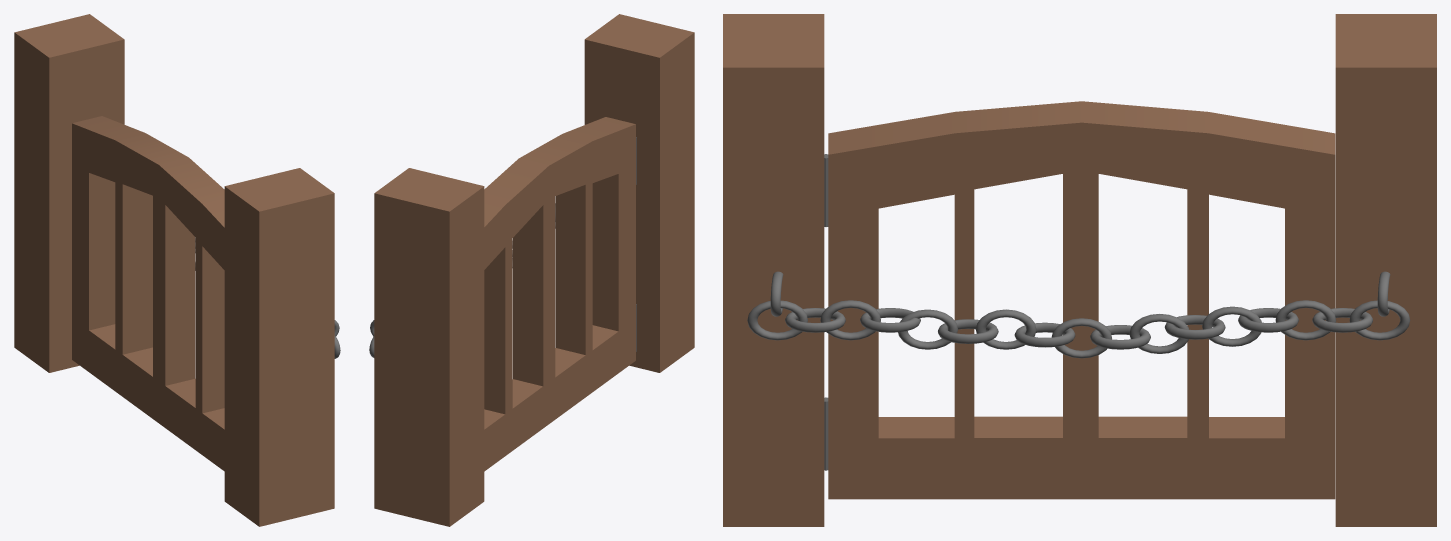
Rendered from Gate Kick.fbx.
3 views of the same model, side by side, from view 1: azimuth 30°, elevation 25°; view 2: azimuth 150°, elevation 25°; view 3: azimuth 270°, elevation 25° (orthographic). The views are drawn at different scales.
Parts seen in each view (by area): view 1: obj_gateDoor, obj_postL, obj_postR; view 2: obj_gateDoor, obj_postR, obj_postL; view 3: obj_gateDoor, obj_postR, obj_postL, obj_chainLink017, obj_chainLink016, obj_chainLink02, obj_chainLink012, obj_chainLink013, obj_chainLink08, obj_chainLink05, obj_chainLink04, obj_chainLink09 (+8 smaller).
Boxes of the visible parts, x1,y1,x2,y2 form: obj_gateDoor: (72, 116, 224, 471); obj_postL: (224, 168, 334, 526); obj_postR: (14, 14, 124, 372); obj_gateDoor: (484, 117, 635, 471); obj_postR: (374, 168, 484, 526); obj_postL: (584, 14, 694, 372); obj_gateDoor: (828, 101, 1335, 499); obj_postR: (1335, 14, 1436, 526); obj_postL: (723, 14, 824, 526); obj_chainLink017: (1349, 300, 1410, 340); obj_chainLink016: (747, 300, 807, 340); obj_chainLink02: (1051, 318, 1111, 358); obj_chainLink012: (1275, 300, 1336, 340); obj_chainLink013: (820, 300, 880, 340); obj_chainLink08: (1202, 306, 1261, 346); obj_chainLink05: (975, 309, 1036, 349); obj_chainLink04: (1129, 314, 1188, 353); obj_chainLink09: (898, 309, 957, 349).
Bounding box in the file's own units: 3.34 × 10 × 14.08.
